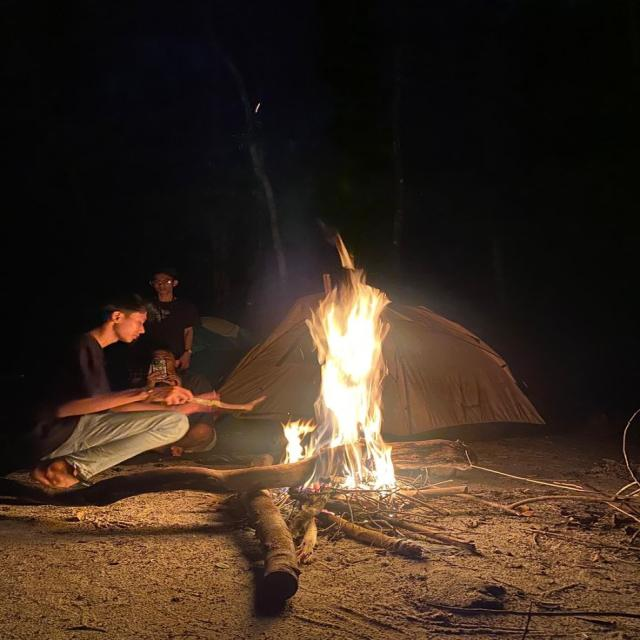fire: (304, 274, 397, 494), (280, 420, 310, 464)
